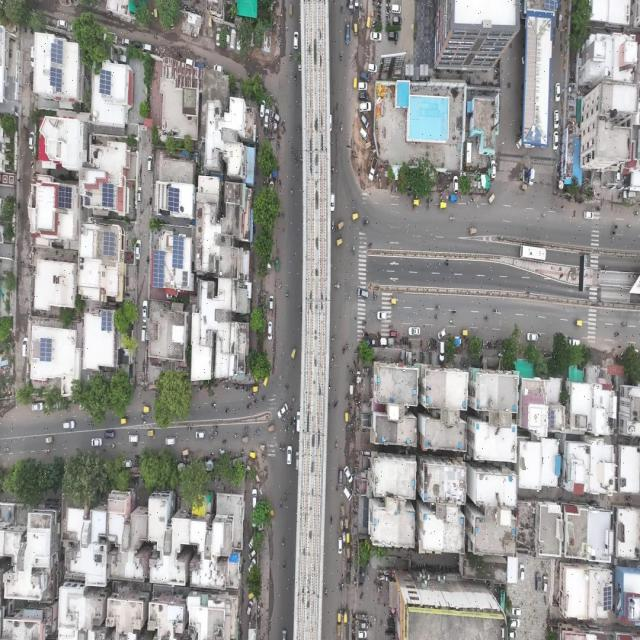3W: (386, 292, 402, 309), (344, 558, 353, 577), (340, 499, 347, 522), (351, 211, 361, 225), (467, 224, 478, 236), (142, 404, 153, 416), (344, 573, 352, 589), (352, 21, 360, 37), (352, 77, 360, 92), (345, 542, 351, 561), (289, 346, 296, 362), (268, 420, 275, 436), (414, 198, 423, 210), (487, 193, 496, 205), (335, 620, 341, 638), (147, 427, 155, 440), (120, 415, 128, 428), (367, 12, 373, 29), (460, 327, 469, 338), (439, 203, 448, 214), (334, 237, 343, 248), (337, 220, 344, 234), (344, 530, 350, 546), (343, 607, 349, 623), (240, 436, 250, 445), (574, 317, 582, 328), (343, 409, 349, 423), (252, 384, 259, 396), (336, 610, 341, 626), (262, 375, 268, 387), (344, 516, 349, 530), (250, 449, 256, 460)
Bus: (515, 244, 547, 260)
Cars: (523, 330, 539, 346), (550, 105, 560, 130), (344, 18, 352, 47), (267, 291, 276, 316), (517, 560, 526, 585), (552, 80, 561, 104), (128, 432, 142, 447), (356, 286, 369, 302), (387, 326, 400, 342), (358, 79, 370, 96), (542, 570, 550, 595), (552, 128, 560, 153), (164, 434, 178, 448), (368, 29, 382, 43), (89, 435, 102, 450), (213, 61, 226, 76), (336, 536, 344, 560), (534, 568, 542, 592), (230, 29, 238, 53), (214, 26, 222, 50), (293, 448, 300, 475), (386, 28, 399, 42), (390, 2, 403, 16), (277, 402, 287, 420), (245, 557, 255, 575), (359, 115, 371, 130), (343, 466, 354, 482), (453, 171, 460, 195), (29, 44, 36, 68), (142, 298, 148, 325), (406, 327, 422, 337), (359, 125, 369, 141), (32, 399, 44, 412), (245, 550, 258, 562), (21, 334, 28, 356), (358, 104, 372, 115), (438, 326, 448, 341), (28, 68, 34, 93), (337, 466, 344, 487), (136, 186, 143, 207), (60, 421, 76, 430), (196, 427, 208, 439), (582, 210, 594, 222), (358, 89, 370, 101), (55, 19, 68, 30), (102, 429, 116, 439), (377, 308, 387, 322), (529, 169, 536, 189), (368, 62, 378, 76), (329, 192, 335, 215), (293, 29, 299, 52), (344, 487, 352, 504), (146, 156, 154, 173), (439, 342, 446, 361), (569, 337, 581, 348), (510, 607, 523, 617), (510, 618, 520, 631), (490, 160, 496, 181), (516, 132, 522, 153), (141, 324, 147, 344), (286, 444, 292, 464), (185, 54, 195, 66), (143, 41, 153, 53), (130, 39, 142, 49), (136, 240, 141, 263), (27, 129, 32, 152), (251, 487, 257, 506), (194, 59, 205, 69), (508, 630, 518, 640), (275, 258, 280, 278), (271, 110, 281, 120), (122, 459, 133, 468), (358, 629, 367, 640), (392, 15, 403, 24), (268, 317, 272, 340), (246, 601, 252, 616), (258, 101, 264, 116), (296, 410, 300, 432), (266, 108, 270, 130), (248, 536, 254, 550), (121, 36, 131, 44), (360, 621, 367, 630)
LCV: (366, 156, 376, 182)
M2W: (481, 312, 491, 328), (449, 304, 459, 320), (430, 298, 442, 311), (338, 39, 344, 65), (432, 307, 441, 324), (356, 587, 366, 602), (295, 122, 302, 142), (283, 419, 289, 441), (333, 434, 340, 452), (339, 120, 348, 134), (221, 406, 231, 418), (280, 556, 286, 576), (2, 444, 12, 456), (285, 49, 295, 61), (322, 582, 328, 601), (351, 242, 358, 258), (297, 153, 304, 169), (281, 536, 287, 554), (260, 392, 267, 407), (331, 329, 337, 346), (327, 399, 333, 416), (87, 420, 97, 430), (361, 217, 371, 227), (225, 382, 233, 394), (284, 380, 290, 396), (333, 280, 341, 292), (614, 327, 620, 343), (278, 438, 283, 457), (185, 423, 192, 436), (261, 454, 268, 467), (288, 183, 295, 196), (211, 398, 217, 413), (242, 423, 252, 432), (329, 512, 334, 530), (284, 287, 290, 302), (618, 319, 628, 328), (339, 3, 345, 18), (293, 151, 298, 169), (447, 215, 458, 223), (277, 498, 282, 515), (289, 400, 294, 417), (291, 395, 297, 409), (330, 350, 336, 364), (626, 219, 633, 231), (493, 304, 500, 316), (449, 316, 456, 328), (331, 162, 337, 176), (611, 230, 618, 241), (290, 141, 295, 156), (41, 448, 53, 454), (140, 418, 149, 426), (372, 615, 378, 627), (213, 430, 220, 440), (336, 582, 343, 592), (293, 70, 298, 84), (327, 381, 333, 392), (634, 206, 639, 219), (109, 442, 117, 450), (469, 196, 477, 204), (245, 401, 252, 410), (221, 435, 228, 444), (240, 384, 245, 396), (609, 225, 619, 231), (207, 433, 214, 441), (284, 492, 288, 506), (291, 413, 295, 427), (342, 347, 346, 361), (252, 398, 258, 407), (208, 448, 214, 457), (256, 428, 262, 437), (282, 442, 286, 455), (213, 423, 220, 430), (234, 428, 238, 439), (140, 410, 144, 419), (346, 340, 349, 350)
